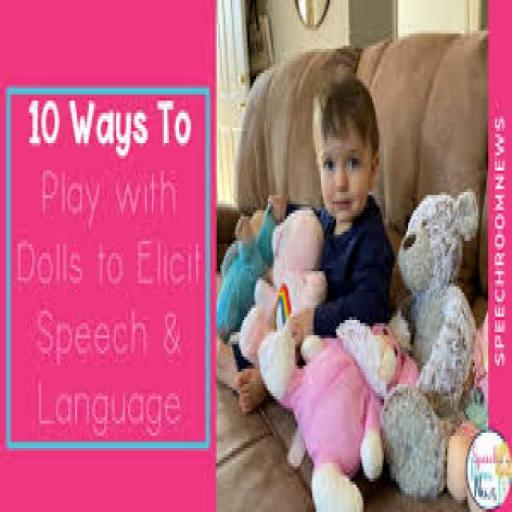baby: (311, 79, 389, 329)
